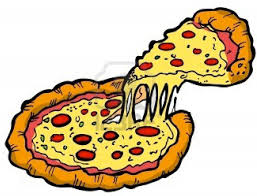pizza: (6, 6, 251, 186)
